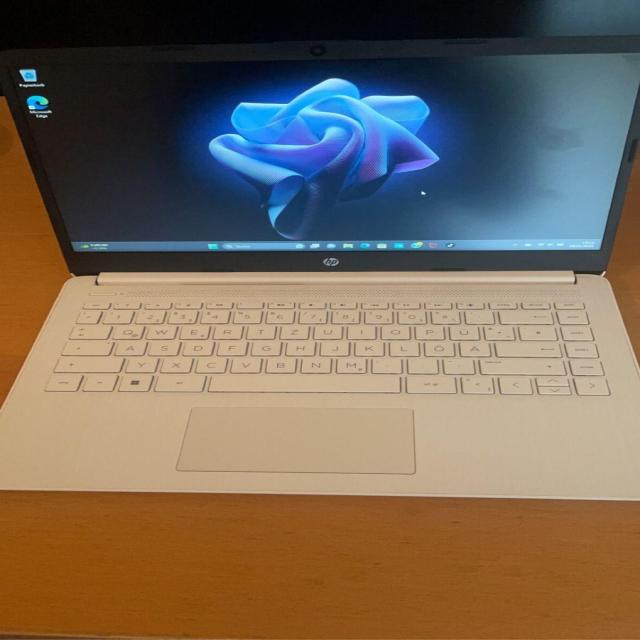0: (395, 308, 424, 322)
1: (99, 308, 131, 322)
2: (132, 308, 163, 322)
3: (165, 308, 195, 322)
4: (198, 308, 228, 322)
5: (230, 308, 259, 322)
6: (263, 308, 292, 322)
7: (296, 308, 325, 322)
8: (328, 308, 357, 322)
9: (361, 308, 390, 322)
a: (111, 338, 143, 354)
accent: (462, 308, 492, 322)
ae: (456, 339, 489, 355)
alt-left: (150, 372, 204, 391)
altgr-right: (402, 373, 455, 392)
b: (261, 355, 295, 372)
c: (192, 355, 225, 371)
caret: (73, 308, 99, 322)
comma: (368, 355, 399, 372)
d: (179, 338, 211, 354)
del: (496, 308, 550, 323)
e: (176, 323, 207, 338)
enter: (493, 339, 561, 356)
f: (214, 338, 244, 354)
g: (248, 338, 278, 354)
h: (282, 338, 313, 354)
hash: (515, 323, 555, 339)
i: (344, 323, 373, 338)
j: (317, 338, 347, 354)
k: (351, 338, 382, 355)
keyboard: (38, 293, 616, 398)
l: (386, 339, 416, 355)
less: (459, 375, 495, 394)
m: (333, 355, 365, 372)
minus: (439, 356, 472, 372)
n: (297, 355, 330, 372)
o: (377, 323, 408, 338)
oe: (421, 339, 453, 355)
p: (412, 323, 442, 338)
plus: (480, 324, 512, 339)
point: (404, 356, 436, 372)
q: (109, 323, 141, 338)
r: (210, 323, 240, 338)
s: (145, 338, 177, 354)
shift-left: (51, 354, 122, 371)
shift-lock: (59, 338, 110, 354)
shift-right: (475, 356, 563, 373)
space: (205, 372, 399, 391)
ss: (427, 308, 457, 322)
strg-left: (41, 372, 81, 390)
t: (244, 323, 274, 338)
tab: (65, 323, 108, 338)
u: (310, 323, 340, 338)
ue: (446, 323, 478, 338)
v: (227, 355, 260, 372)
w: (143, 323, 175, 338)
x: (157, 355, 190, 372)
y: (122, 354, 156, 371)
z: (276, 323, 307, 338)
